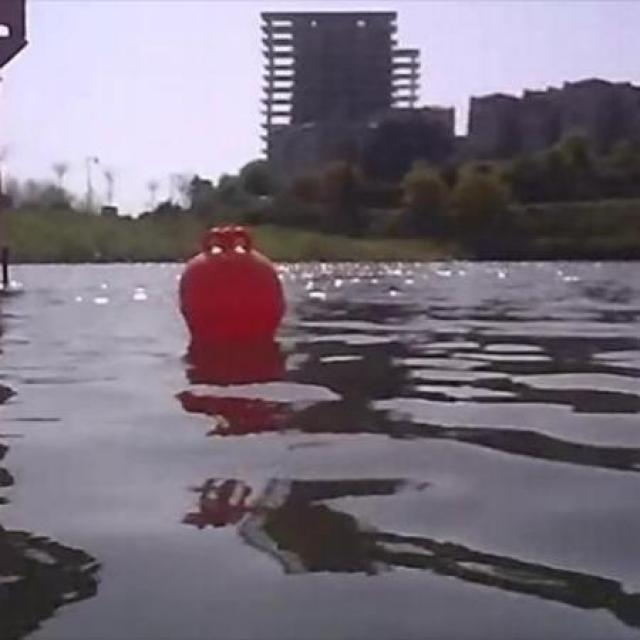buoy: (182, 225, 286, 333)
